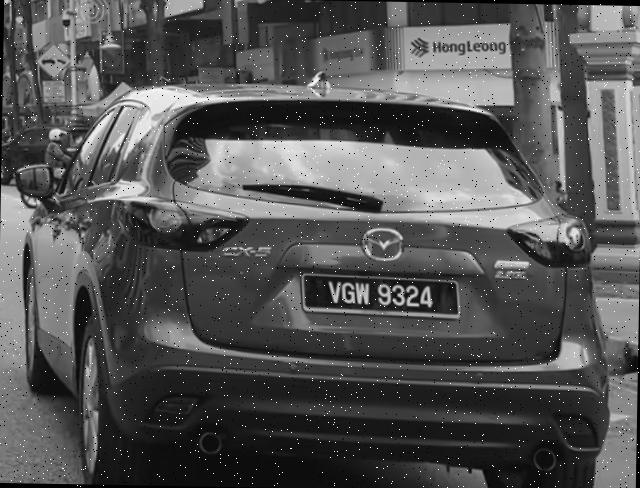License_Plate: (300, 272, 462, 321)
car: (11, 67, 618, 488)
